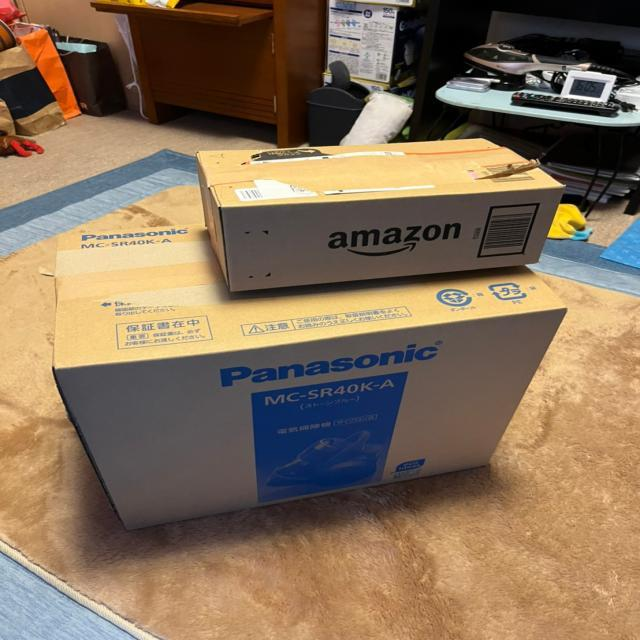-: (45, 197, 575, 535), (184, 134, 570, 297)
